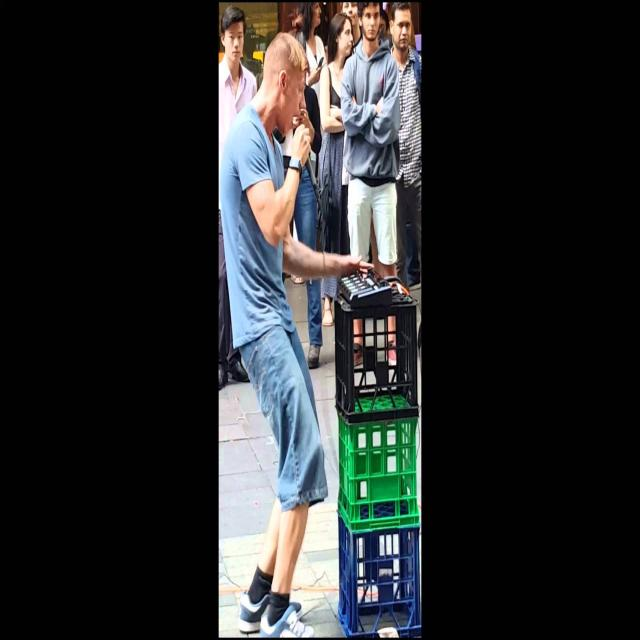body: (218, 28, 376, 640), (337, 0, 408, 367), (206, 4, 262, 392), (271, 24, 324, 370), (316, 12, 354, 328), (388, 2, 422, 294), (293, 0, 328, 109), (339, 0, 363, 56), (376, 8, 389, 42)
